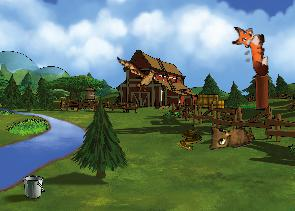eagle: (117, 56, 164, 92)
fox: (230, 23, 270, 78)
owl: (203, 114, 256, 155)
